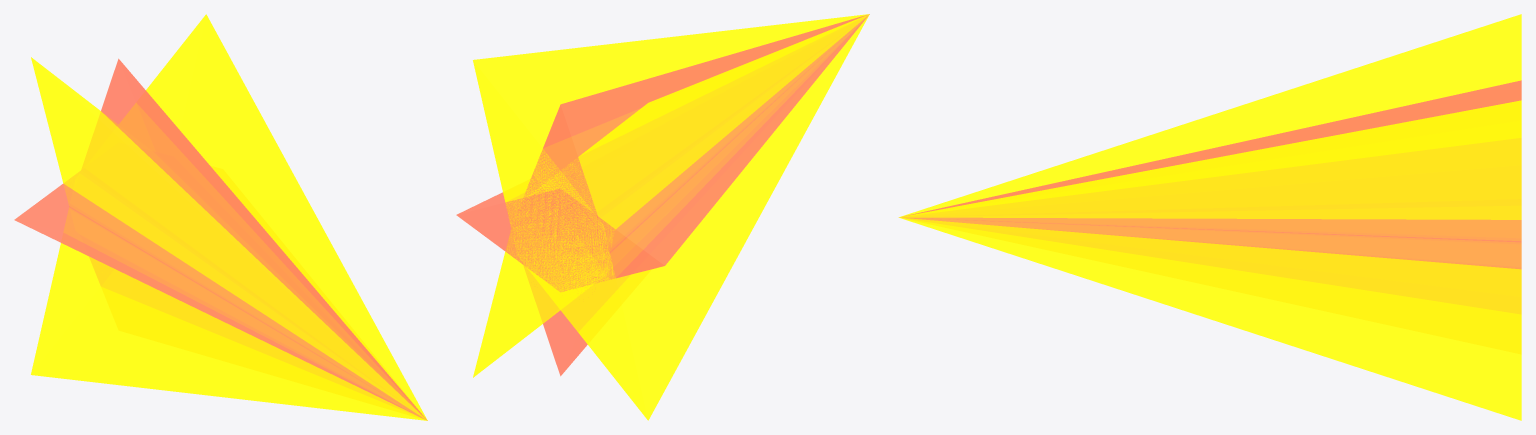
The model's file is igniteArrow.fbx.
3 renders of one model, left to right at view 1: azimuth 30°, elevation 25°; view 2: azimuth 150°, elevation 25°; view 3: azimuth 270°, elevation 25°, orthographic.
Visible parts, largest first — view 1: Arrow3, Arrow4, Arrow2, Arrow1; view 2: Arrow3, Arrow2, Arrow4, Arrow1; view 3: Arrow2, Arrow3, Arrow4, Arrow1.
Part boxes in pixels (bbox=[...]): Arrow3: bbox=[31, 14, 427, 420]; Arrow4: bbox=[69, 58, 427, 420]; Arrow2: bbox=[31, 57, 426, 419]; Arrow1: bbox=[14, 171, 425, 419]; Arrow3: bbox=[473, 14, 869, 420]; Arrow2: bbox=[473, 14, 868, 377]; Arrow4: bbox=[515, 14, 868, 376]; Arrow1: bbox=[456, 14, 869, 291]; Arrow2: bbox=[899, 14, 1521, 420]; Arrow3: bbox=[898, 100, 1521, 240]; Arrow4: bbox=[903, 80, 1521, 313]; Arrow1: bbox=[902, 202, 1521, 269].
Size of the model in its own units: 78.01 by 113 by 200.
